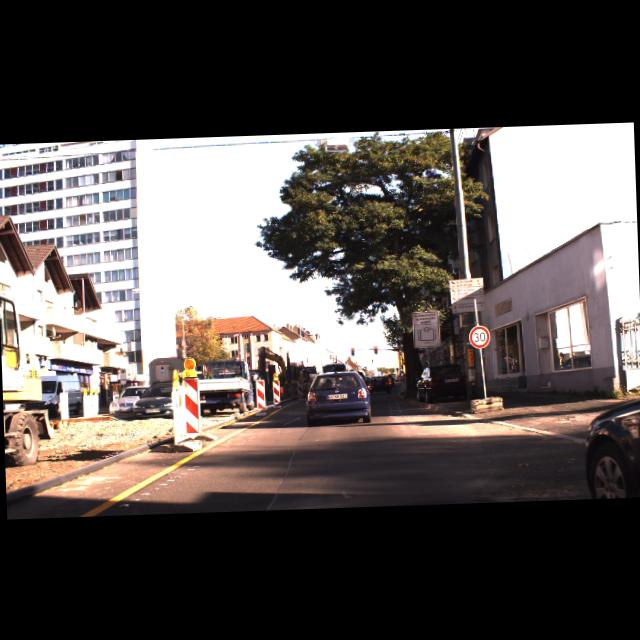prohibitory: (468, 323, 490, 348)
